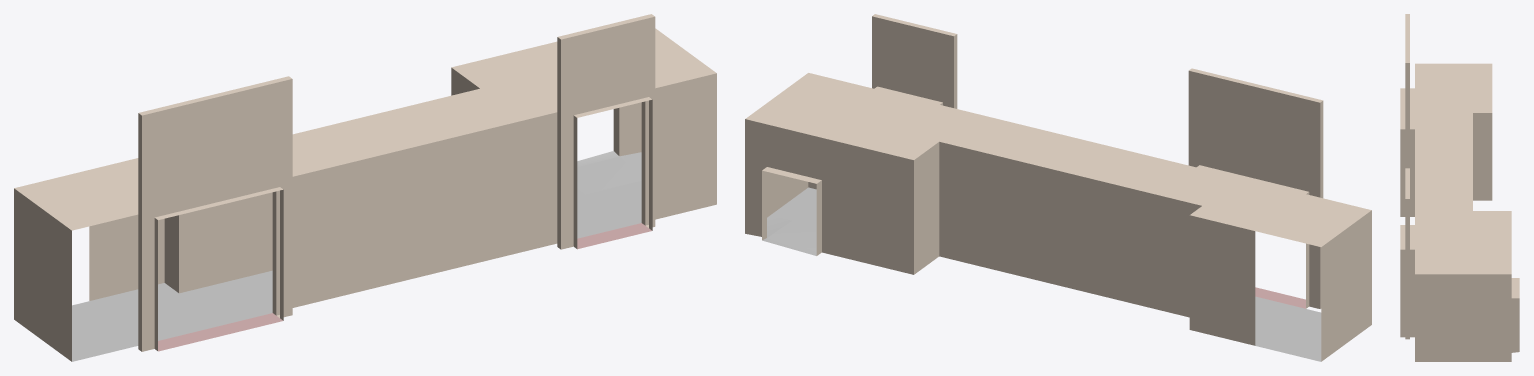
File: L28-Hallway-7.obj
3 views of the same model, side by side, from view 1: azimuth 30°, elevation 25°; view 2: azimuth 150°, elevation 25°; view 3: azimuth 270°, elevation 25° (orthographic). The views are drawn at different scales.
Parts seen in each view (by area): view 1: L28-Hallway-7; view 2: L28-Hallway-7; view 3: L28-Hallway-7.
Boxes of the visible parts, x1,y1,x2,y2 form: L28-Hallway-7: (14, 14, 716, 361); L28-Hallway-7: (745, 14, 1371, 361); L28-Hallway-7: (1400, 14, 1519, 361).
Size of the model in its own units: 25.7 by 9 by 6.15.
